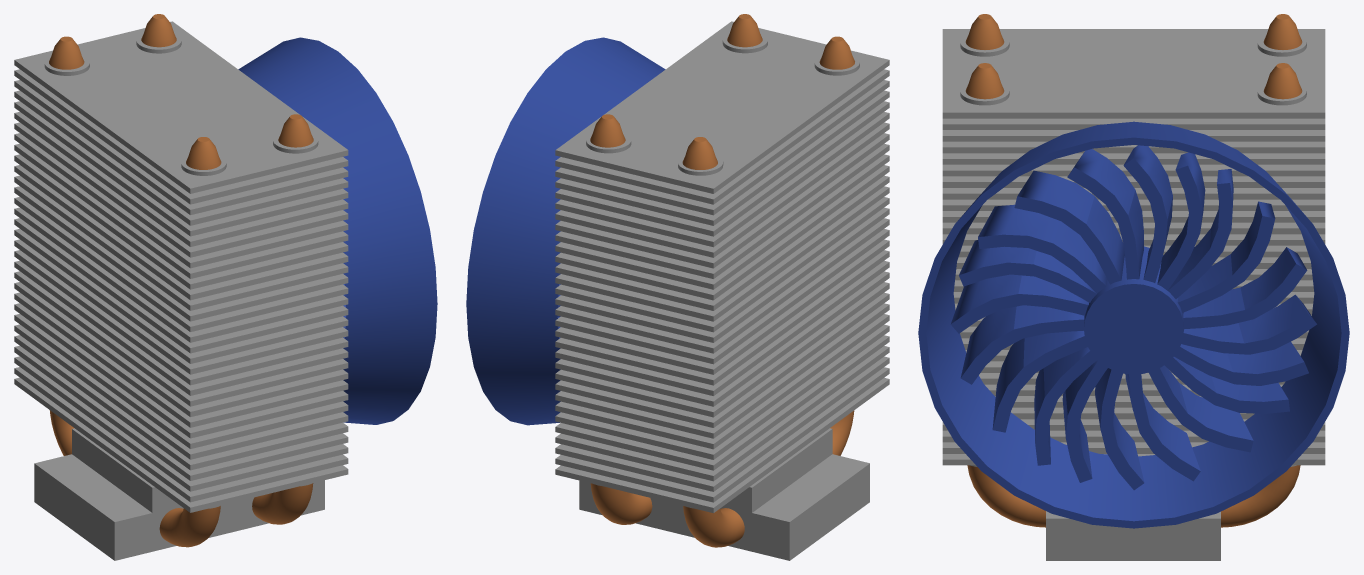
File: LAMMAX 200T.fbx
3 views of the same model, side by side, from view 1: azimuth 30°, elevation 25°; view 2: azimuth 150°, elevation 25°; view 3: azimuth 270°, elevation 25° (orthographic). The views are drawn at different scales.
Visible parts, largest first — view 1: Cube, Cylinder, Cube.021, Cylinder.004, Cylinder.002; view 2: Cube, Cylinder, Cube.021, Cylinder.004, Cylinder.002; view 3: Cube.012, Cube, Cylinder, Cylinder.004, Cylinder.001, Cube.021, Cylinder.002.
Boxes of the visible parts, x1=… form: Cube: x1=14, y1=21, x2=348, y2=512; Cylinder: x1=238, y1=37, x2=437, y2=424; Cube.021: x1=34, y1=428, x2=324, y2=560; Cylinder.004: x1=49, y1=14, x2=313, y2=547; Cylinder.002: x1=44, y1=33, x2=318, y2=508; Cube: x1=555, y1=21, x2=889, y2=513; Cylinder: x1=466, y1=37, x2=665, y2=425; Cube.021: x1=579, y1=428, x2=869, y2=560; Cylinder.004: x1=590, y1=14, x2=854, y2=547; Cylinder.002: x1=586, y1=32, x2=859, y2=508; Cube.012: x1=950, y1=145, x2=1316, y2=490; Cube: x1=942, y1=29, x2=1325, y2=465; Cylinder: x1=918, y1=121, x2=1349, y2=528; Cylinder.004: x1=965, y1=14, x2=1302, y2=527; Cylinder.001: x1=1084, y1=246, x2=1183, y2=374; Cube.021: x1=1046, y1=511, x2=1220, y2=560; Cylinder.002: x1=960, y1=34, x2=1306, y2=466.
Bounding box in the file's own units: 493 × 763 × 642.
